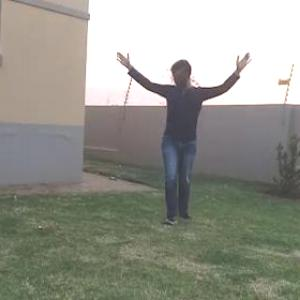takeoff: (112, 38, 262, 213)
